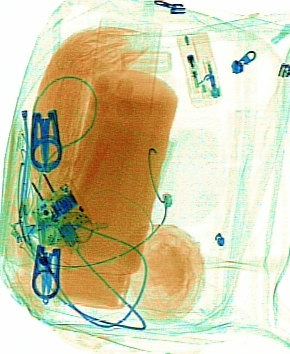lighter: (172, 25, 223, 108)
scissors: (26, 107, 62, 173), (29, 241, 60, 304)
